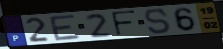2: (24, 16, 53, 44), (84, 12, 113, 39)
6: (172, 6, 197, 33)
E: (48, 13, 83, 42)
F: (110, 10, 138, 38)
S: (144, 8, 173, 36)
